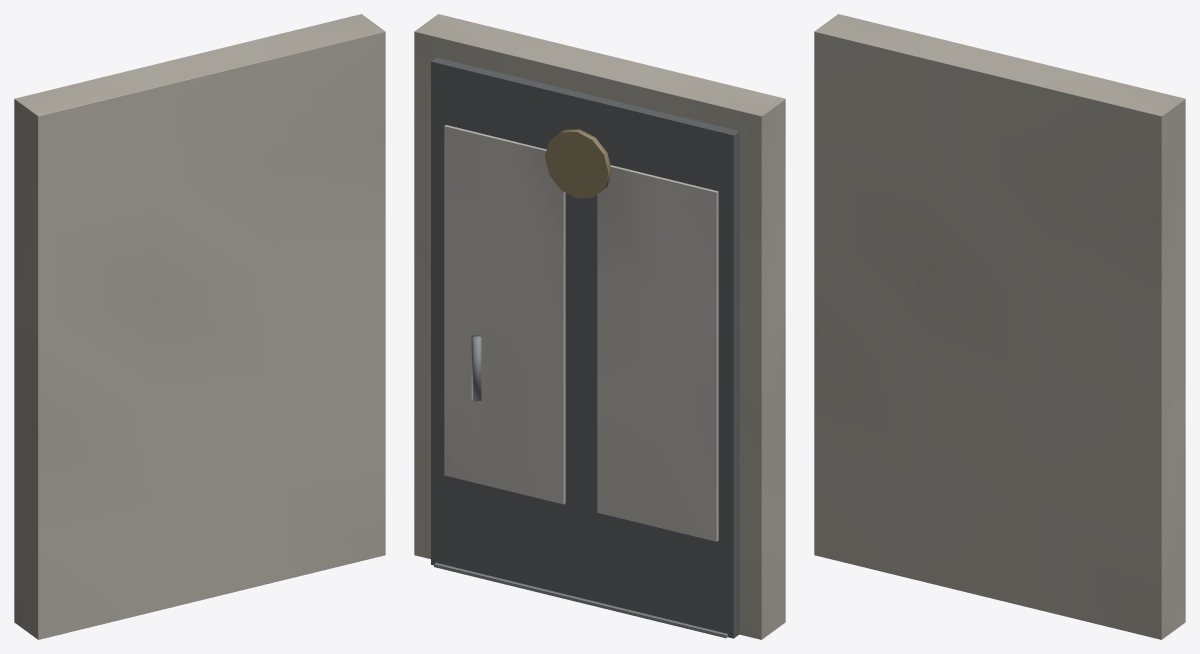
The model's file is mayor_door_low.glb.
3 views of the same model, side by side, from view 1: azimuth 30°, elevation 25°; view 2: azimuth 150°, elevation 25°; view 3: azimuth 330°, elevation 25° (orthographic).
Bounding box in the file's own units: 2.5 × 3.6 × 0.475.
